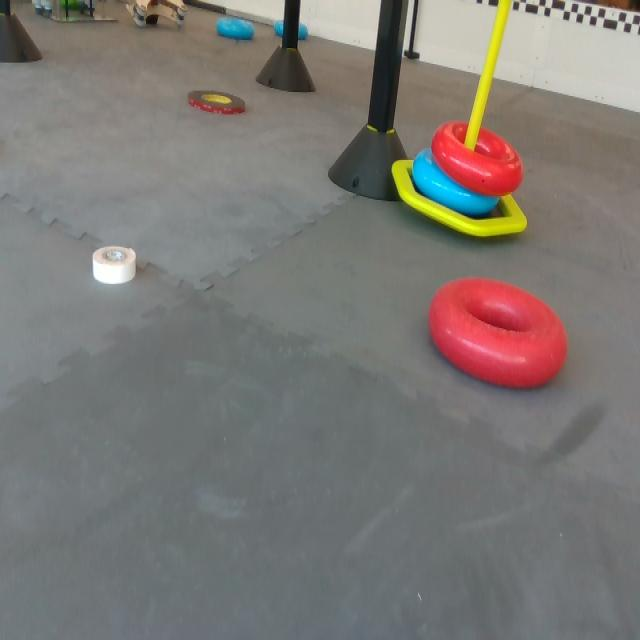Blue-Ring: (413, 147, 498, 217), (214, 16, 260, 44), (273, 20, 310, 40)
Mobile-Goal: (391, 0, 537, 244)
Red-Ring: (430, 280, 568, 390), (432, 121, 525, 196)
